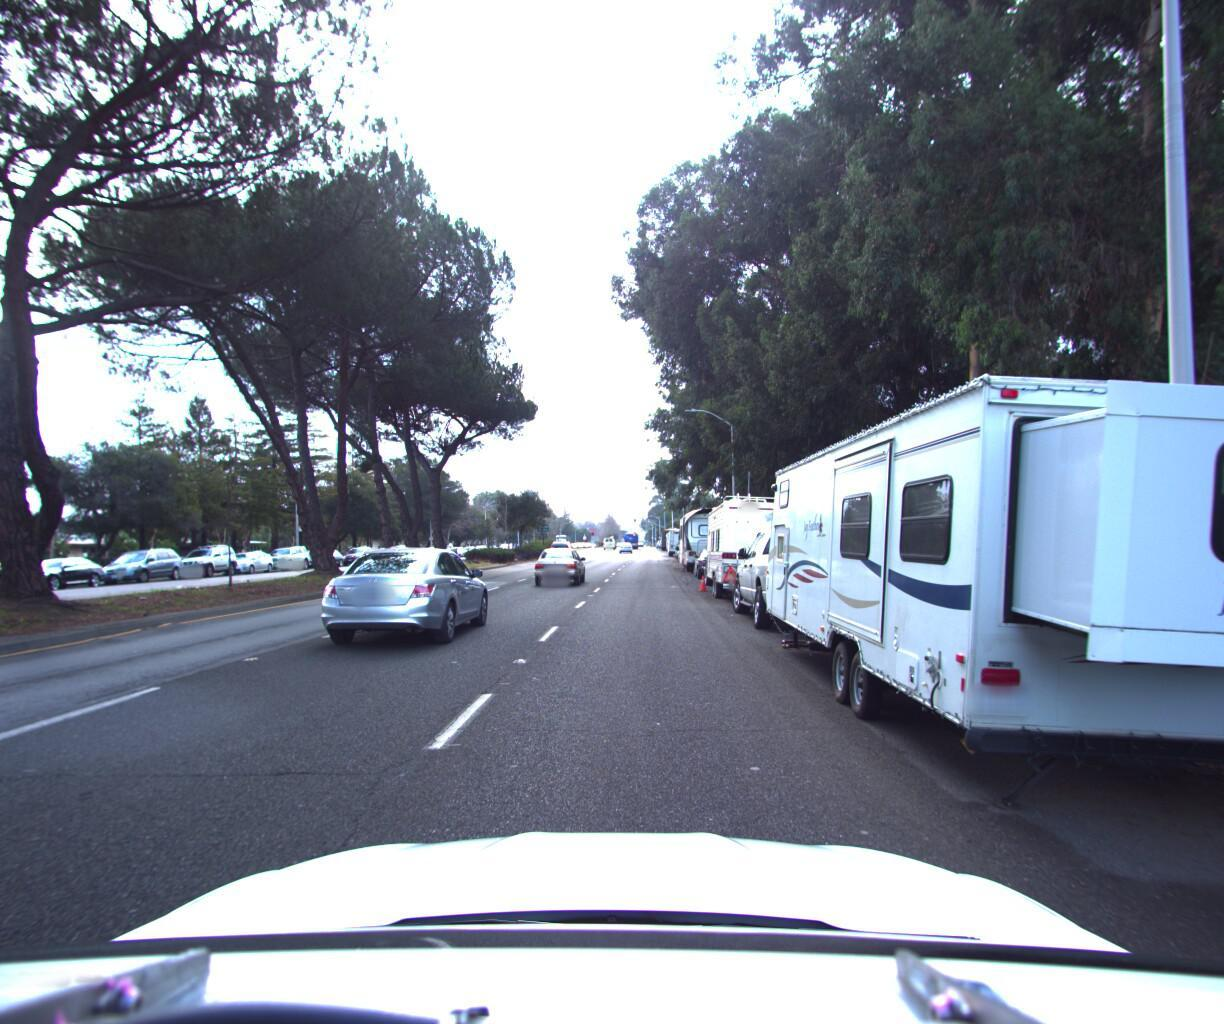car: (302, 539, 503, 654), (725, 514, 894, 638), (0, 552, 116, 591), (91, 542, 194, 585), (170, 539, 244, 576), (531, 539, 588, 581), (255, 539, 315, 570), (216, 545, 279, 574), (690, 538, 738, 573), (0, 549, 23, 604), (338, 540, 378, 563), (547, 535, 576, 557)
other_vehicle: (749, 252, 1224, 935), (698, 483, 830, 604), (675, 500, 738, 568)
